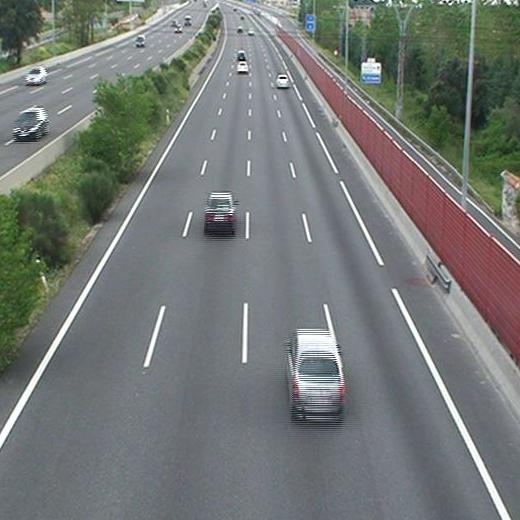car: (285, 329, 343, 418), (205, 193, 235, 227), (276, 74, 290, 87), (236, 61, 247, 73), (235, 50, 246, 61)
